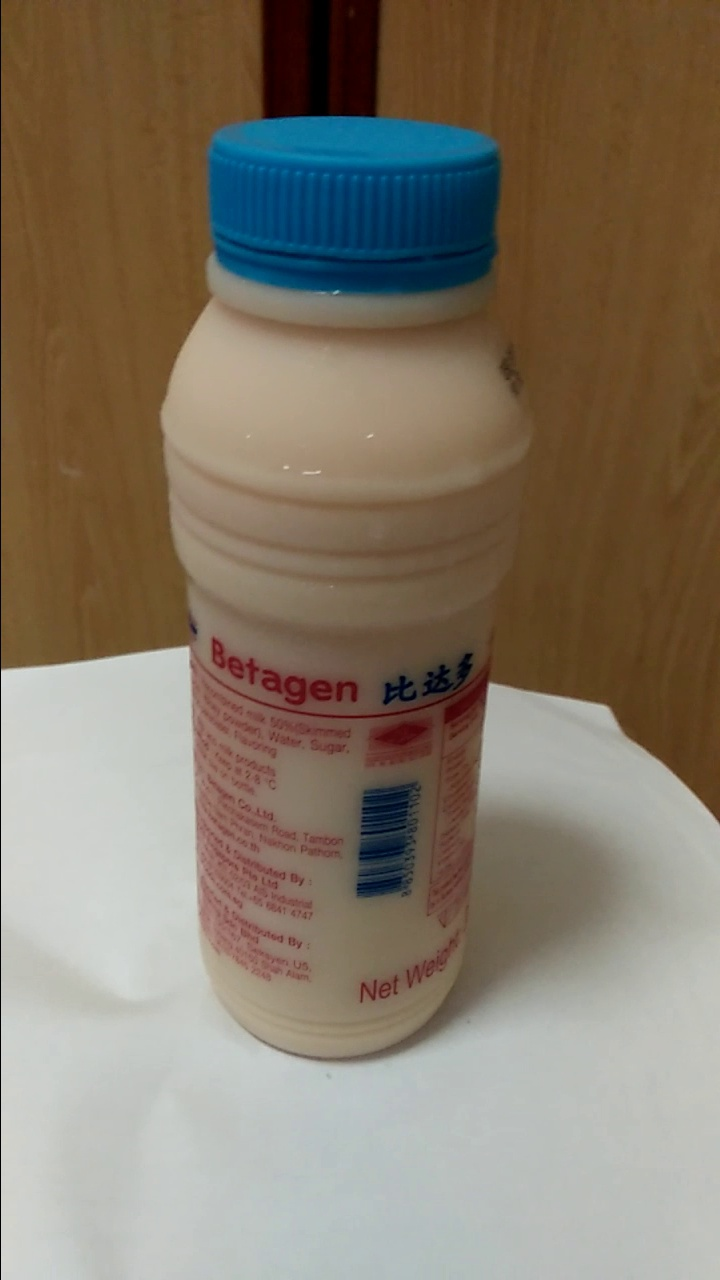mlik2: (176, 123, 529, 1066)
